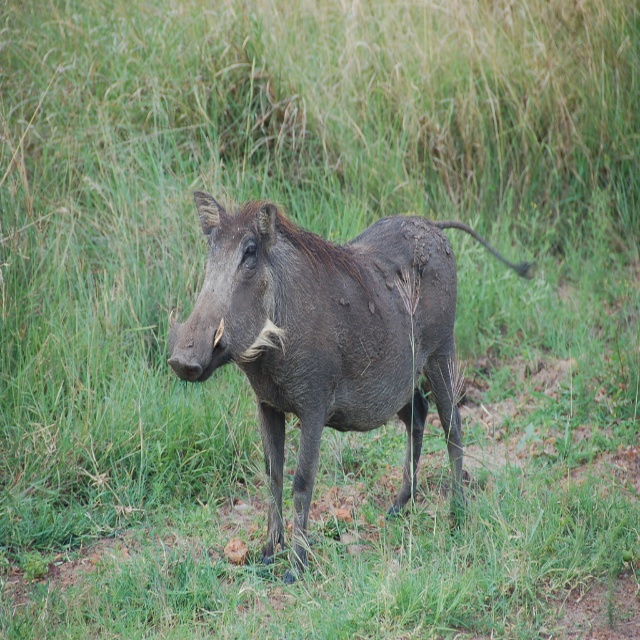Pig: (167, 189, 536, 585)
